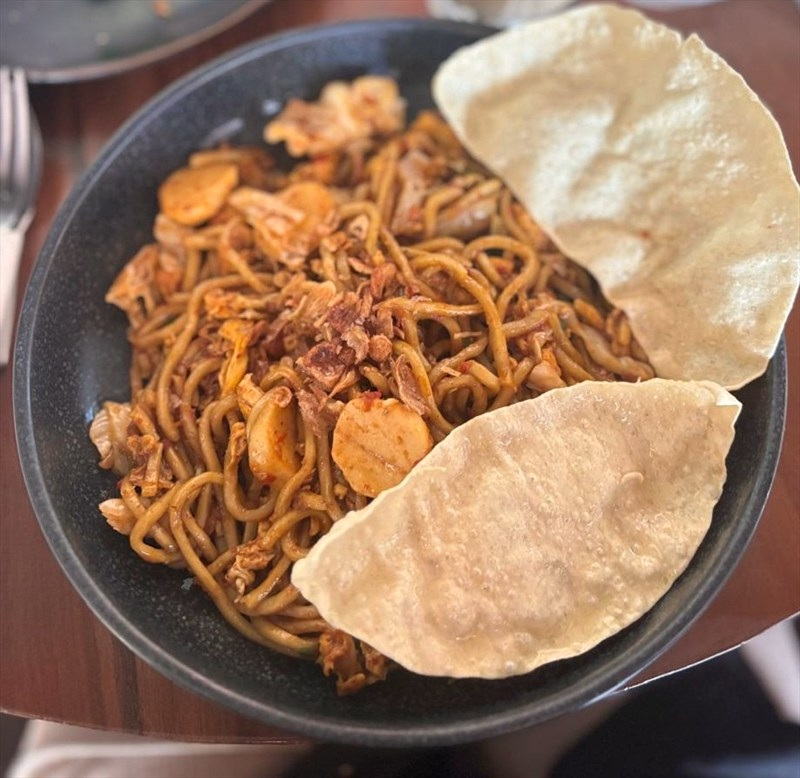Mie Goreng: (122, 115, 653, 656)
